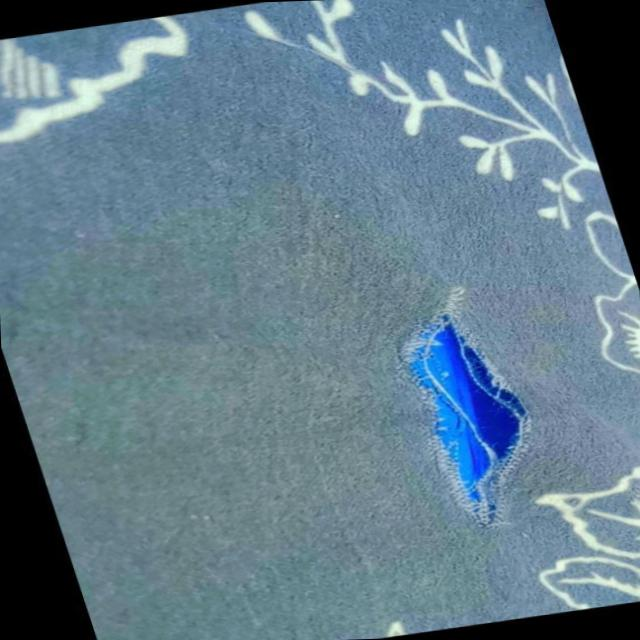cut: (369, 272, 570, 540)
